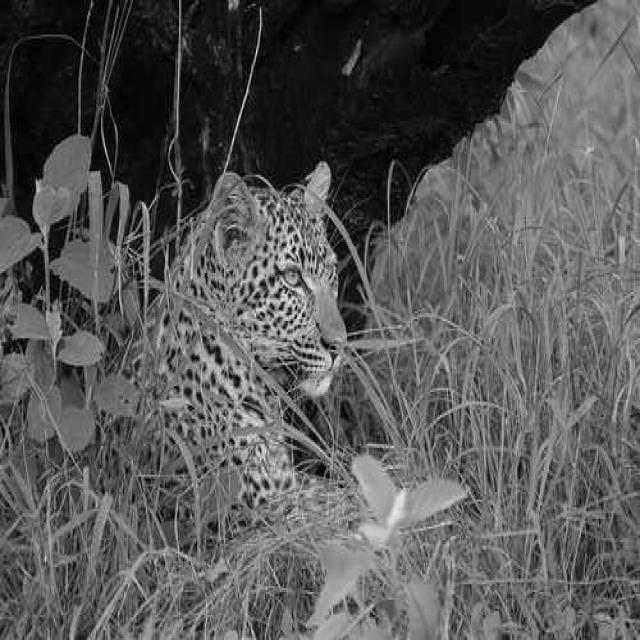Leopard: (169, 118, 409, 528)
